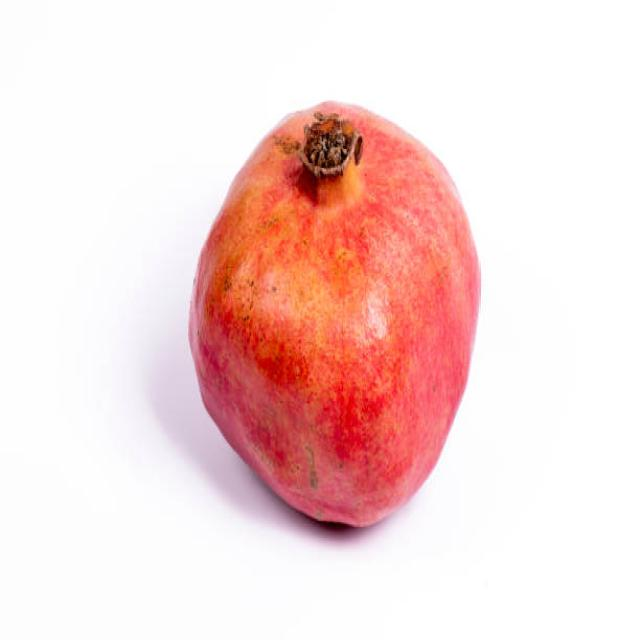Ripe: (183, 92, 484, 530)
